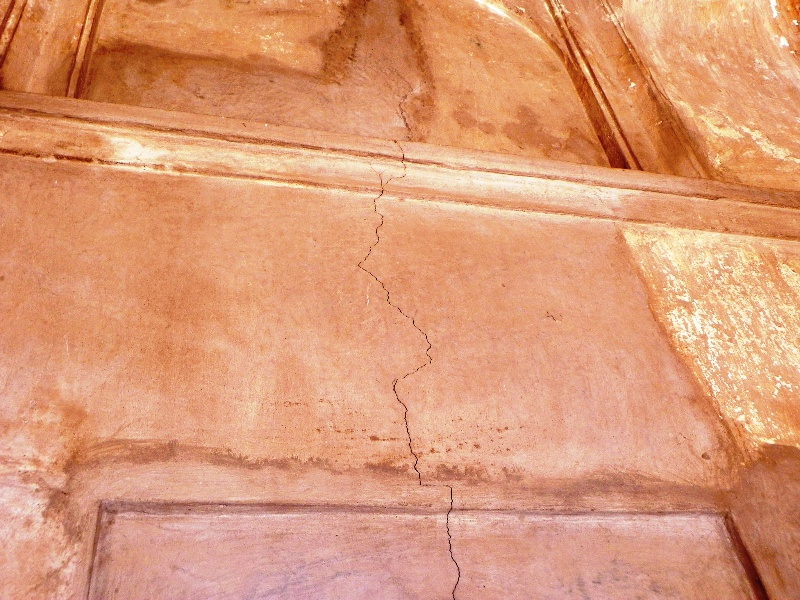Crack: (339, 194, 474, 600)
